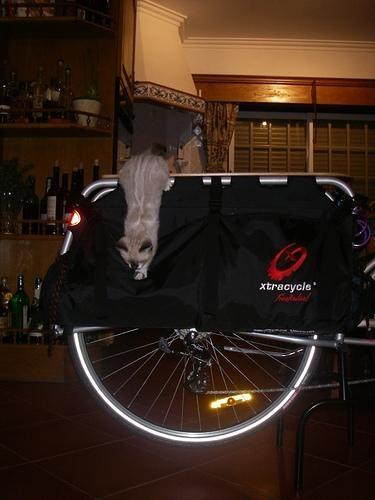bicycle: (44, 174, 375, 447)
